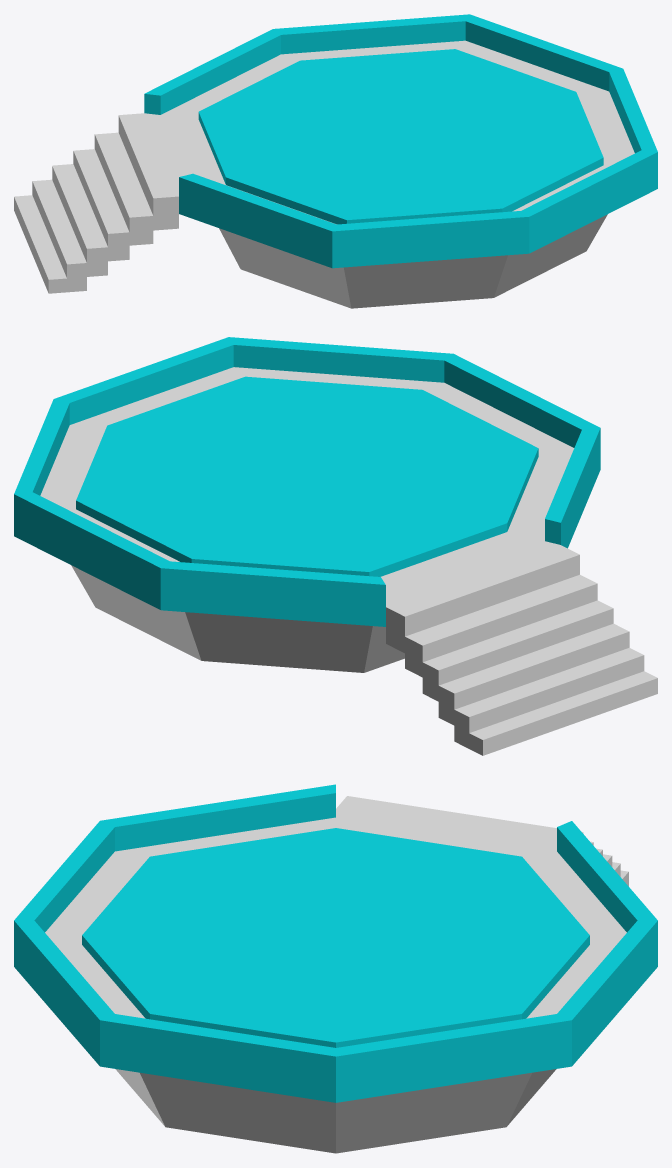
Rendered from LandingPad.fbx.
3 views of the same model, one above another, from view 1: azimuth 30°, elevation 25°; view 2: azimuth 150°, elevation 25°; view 3: azimuth 270°, elevation 25° (orthographic). The views are drawn at different scales.
Visible parts, largest first — view 1: Cube; view 2: Cube; view 3: Cube.
Boxes of the visible parts, bbox=[...] form: Cube: bbox=[14, 14, 657, 308]; Cube: bbox=[14, 337, 657, 755]; Cube: bbox=[14, 784, 657, 1153].
Size of the model in its own units: 248 by 46.05 by 199.
